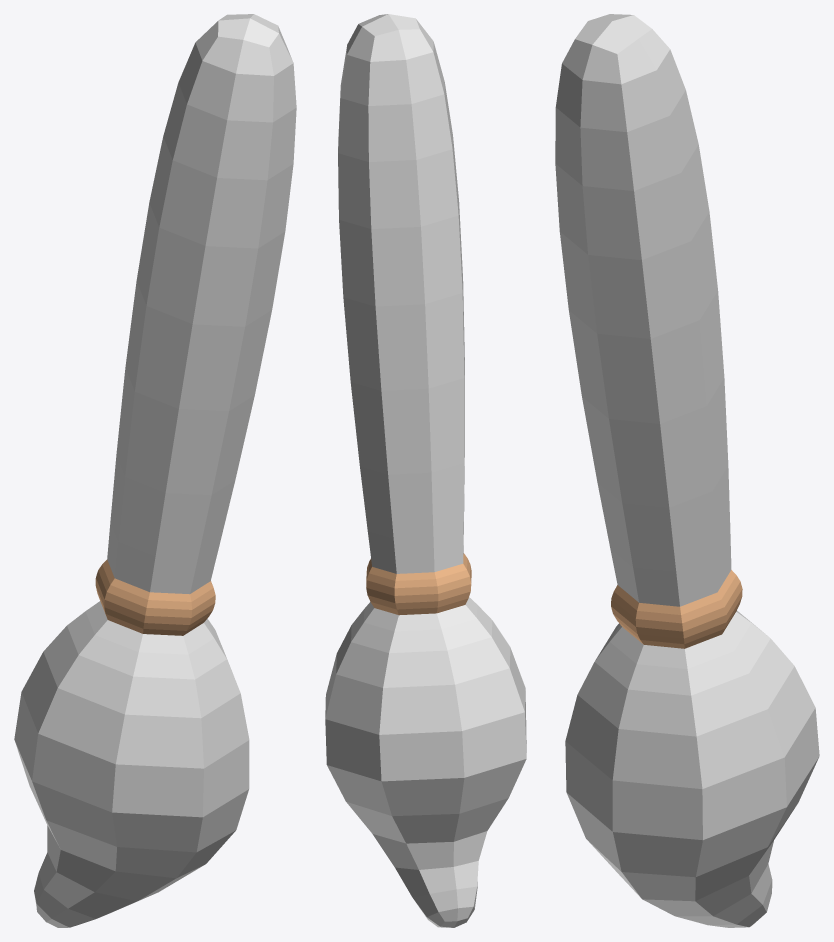
Rendered from brush.fbx.
3 renders of one model, left to right at view 1: azimuth 30°, elevation 25°; view 2: azimuth 150°, elevation 25°; view 3: azimuth 270°, elevation 25°, orthographic. The views are drawn at different scales.
Parts seen in each view (by area): view 1: Cube.004; view 2: Cube.004; view 3: Cube.004.
Part boxes in pixels (x1,y1,x2,y2): Cube.004: (14, 14, 296, 927); Cube.004: (325, 14, 526, 927); Cube.004: (555, 14, 819, 927).
Size of the model in its own units: 125 by 478 by 118.
